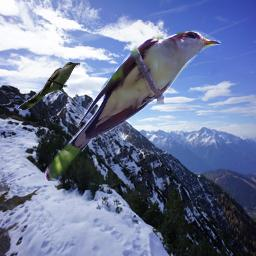Cuckoo: (45, 30, 221, 181), (18, 61, 80, 110)
